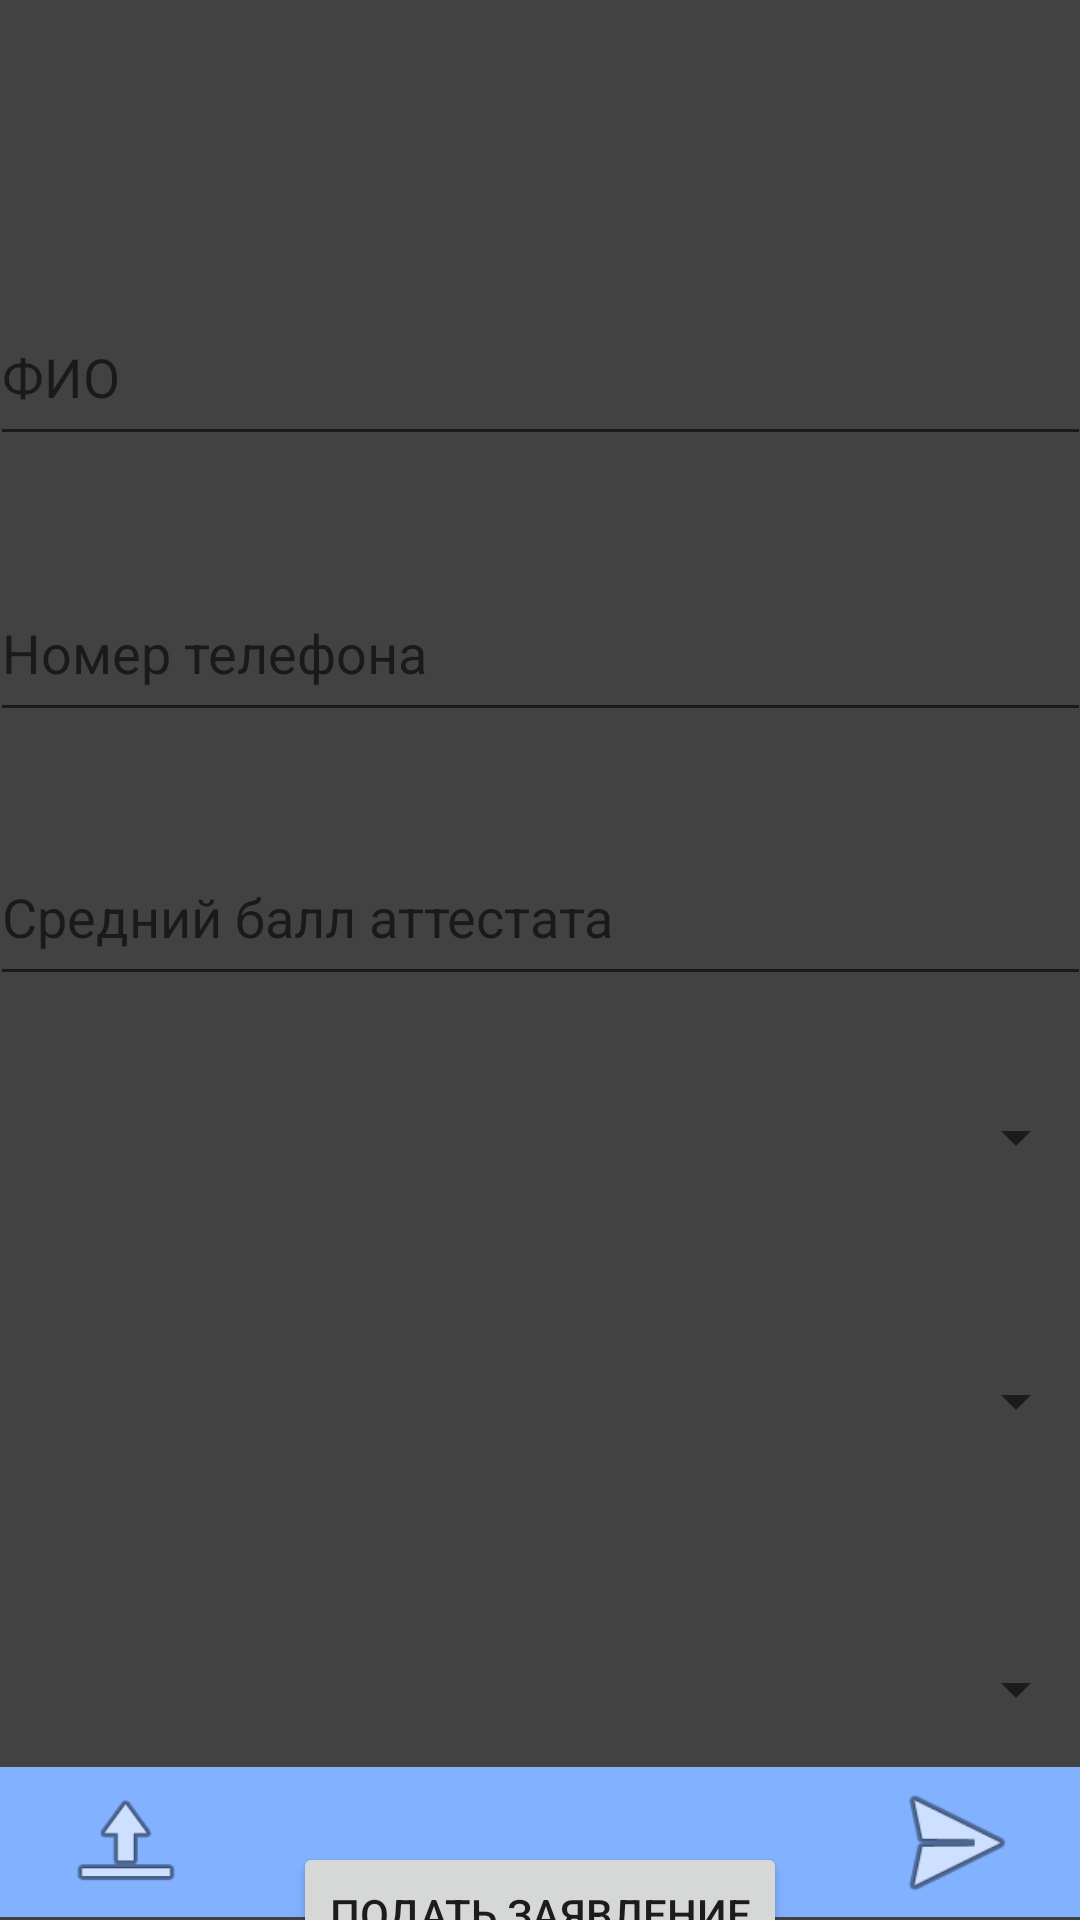

Where to tap for icons on this 1080×1920 app screen, as [x,y]:
send: [957,1842]
upload: [126,1840]
